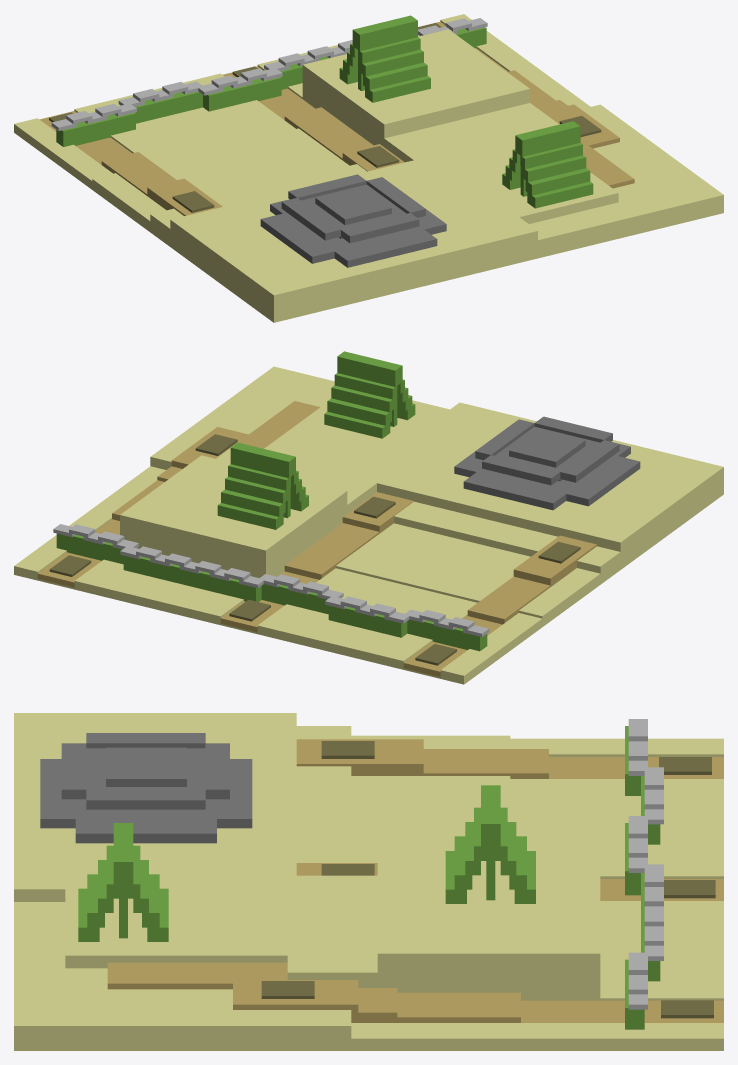
Rendered from presente.fbx.
3 views of the same model, one above another, from view 1: azimuth 30°, elevation 25°; view 2: azimuth 150°, elevation 25°; view 3: azimuth 270°, elevation 25° (orthographic). The views are drawn at different scales.
Parts seen in each view (by area): view 1: cube_6, cube_5, cube_1, cube_18, cube_10, cube_14, cube_12, cube_11, cube_70, cube_69, cube_8, cube_19 (+31 smaller); view 2: cube_6, cube_18, cube_5, cube_1, cube_10, cube_12, cube_14, cube_7, cube_11, cube_69, cube_8, cube_19 (+38 smaller); view 3: cube_6, cube_5, cube_18, cube_10, cube_14, cube_8, cube_12, cube_1, cube_7, cube_70, cube_69, cube_2 (+39 smaller).
Boxes of the visible parts, left/top/right/bottom form: cube_6: left=170, top=155, right=537, bottom=307; cube_5: left=150, top=104, right=723, bottom=313; cube_1: left=92, top=128, right=517, bottom=320; cube_18: left=302, top=29, right=529, bottom=142; cube_10: left=74, top=73, right=480, bottom=306; cube_14: left=302, top=79, right=559, bottom=162; cube_12: left=438, top=139, right=618, bottom=223; cube_11: left=14, top=118, right=297, bottom=319; cube_70: left=270, top=199, right=437, bottom=267; cube_69: left=260, top=209, right=446, bottom=263; cube_8: left=440, top=14, right=723, bottom=216; cube_19: left=284, top=107, right=373, bottom=165; cube_6: left=356, top=402, right=723, bottom=557; cube_18: left=120, top=455, right=347, bottom=568; cube_5: left=150, top=366, right=723, bottom=575; cube_1: left=335, top=483, right=723, bottom=624; cube_10: left=257, top=568, right=477, bottom=667; cube_12: left=264, top=402, right=440, bottom=475; cube_14: left=120, top=448, right=376, bottom=577; cube_7: left=74, top=559, right=284, bottom=623; cube_11: left=440, top=486, right=723, bottom=682; cube_69: left=454, top=451, right=640, bottom=506; cube_8: left=14, top=466, right=165, bottom=578; cube_19: left=284, top=522, right=393, bottom=579; cube_6: left=14, top=713, right=296, bottom=901; cube_5: left=14, top=726, right=351, bottom=1038; cube_18: left=377, top=856, right=600, bottom=978; cube_10: left=510, top=779, right=723, bottom=878; cube_14: left=287, top=875, right=600, bottom=998; cube_8: left=14, top=1023, right=723, bottom=1048; cube_12: left=65, top=889, right=287, bottom=968; cube_1: left=351, top=735, right=510, bottom=862; cube_7: left=521, top=901, right=723, bottom=1000; cube_70: left=40, top=759, right=252, bottom=828; cube_69: left=75, top=799, right=216, bottom=843; cube_2: left=351, top=992, right=520, bottom=1022.
Size of the model in its own units: 2512 by 534 by 2512.
6 materials, 6 textured.
